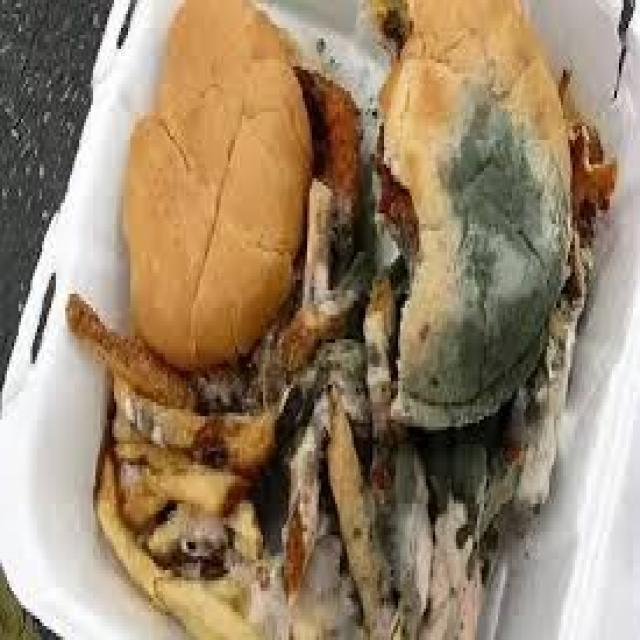organic waste: (354, 0, 570, 427), (116, 0, 310, 364), (482, 227, 579, 525), (109, 367, 305, 472), (424, 437, 505, 637), (90, 430, 174, 616), (63, 287, 193, 402), (321, 402, 384, 637), (288, 63, 358, 269), (556, 66, 614, 238), (375, 441, 426, 633), (286, 518, 366, 636), (277, 283, 363, 385), (358, 269, 398, 486), (149, 566, 265, 636), (140, 462, 253, 514), (296, 171, 330, 308), (111, 426, 196, 476), (370, 136, 414, 228), (190, 563, 274, 609), (184, 364, 268, 409), (114, 479, 168, 535), (221, 493, 263, 563)
